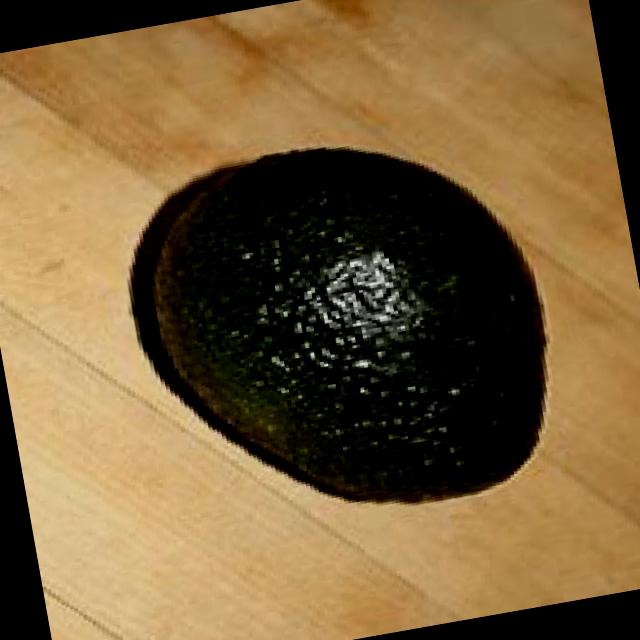avocado: (114, 110, 581, 552)
